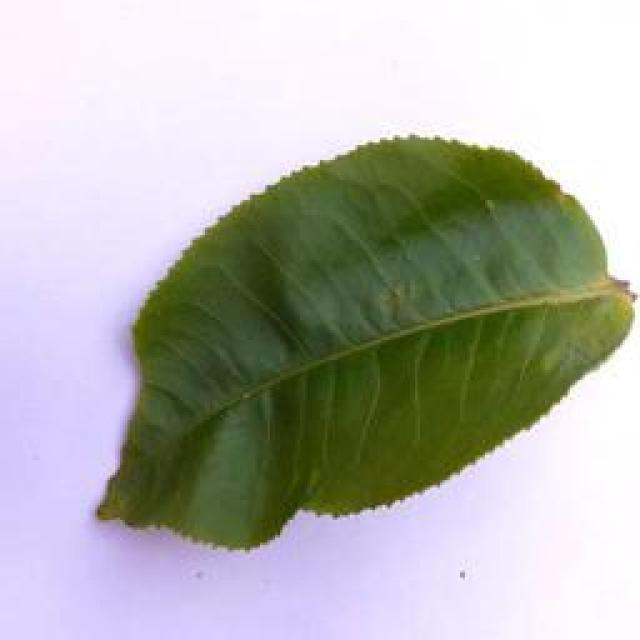Healthy: (82, 128, 640, 540)
